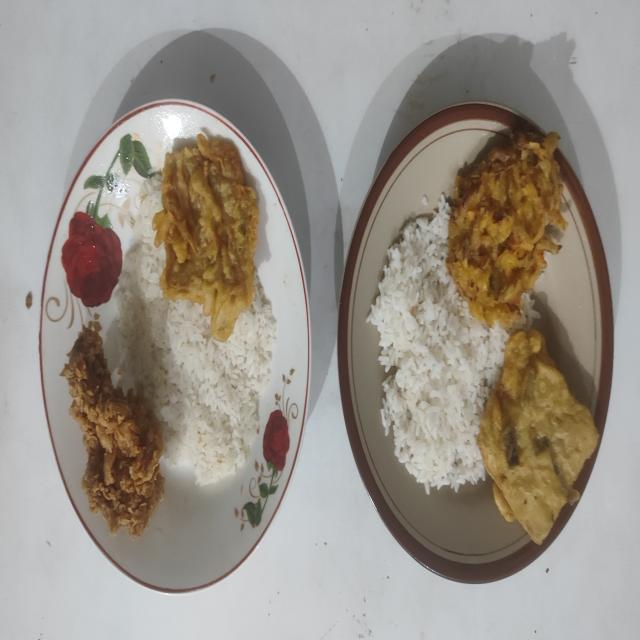nasi_putih: (104, 180, 276, 486), (367, 195, 509, 494)
